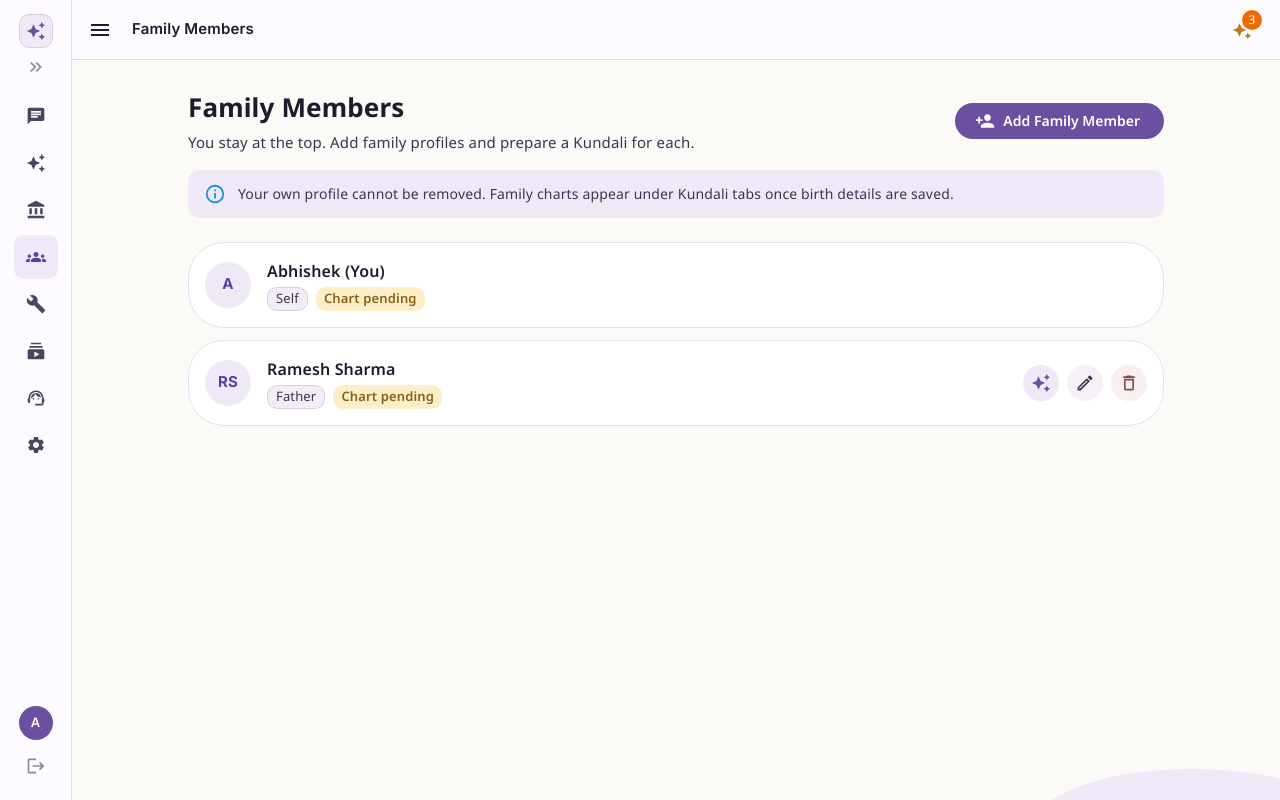
family wizard keeps date/time pickers, place field, and Create chart enable
The image size is (1280, 800).
Click the button "Add Family Member": (1060, 121) [955, 102, 1164, 139]
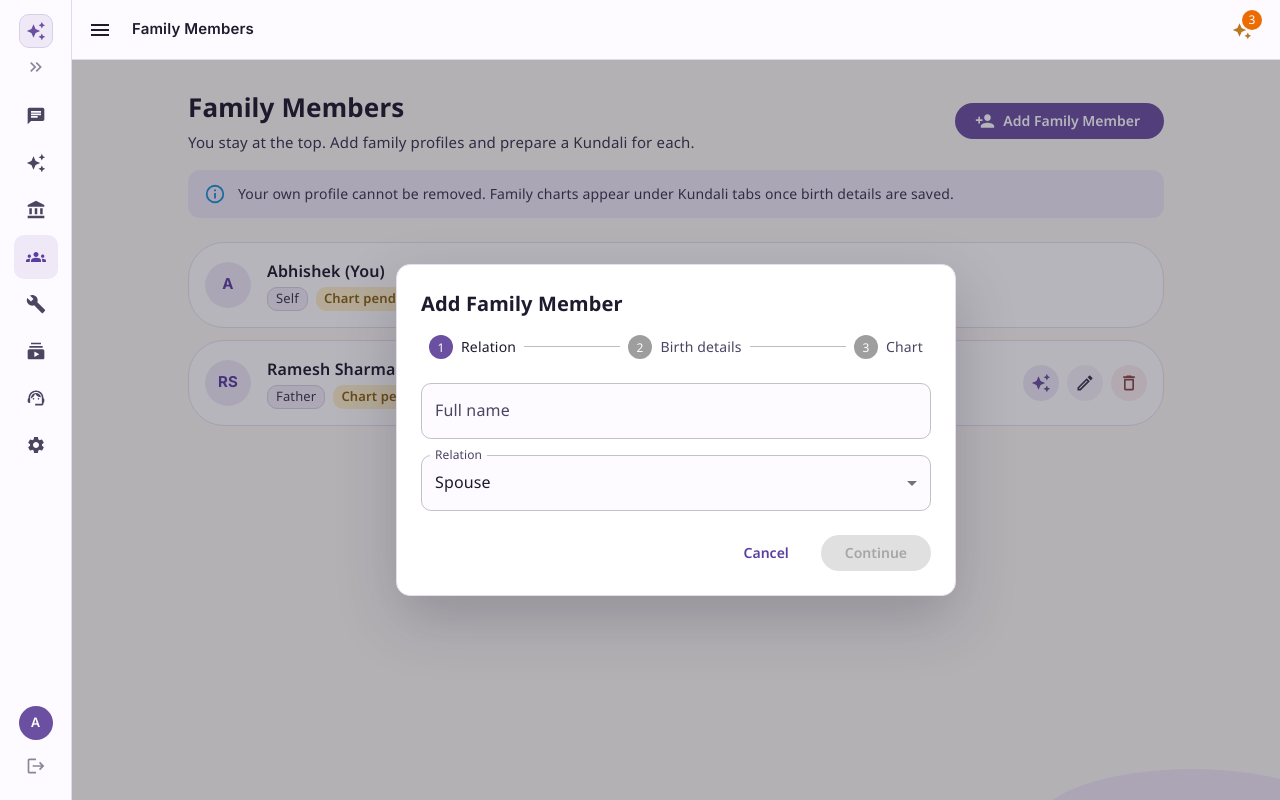
In the field labelled "Full name": (676, 411) [421, 383, 931, 439], type "Priya Sharma"
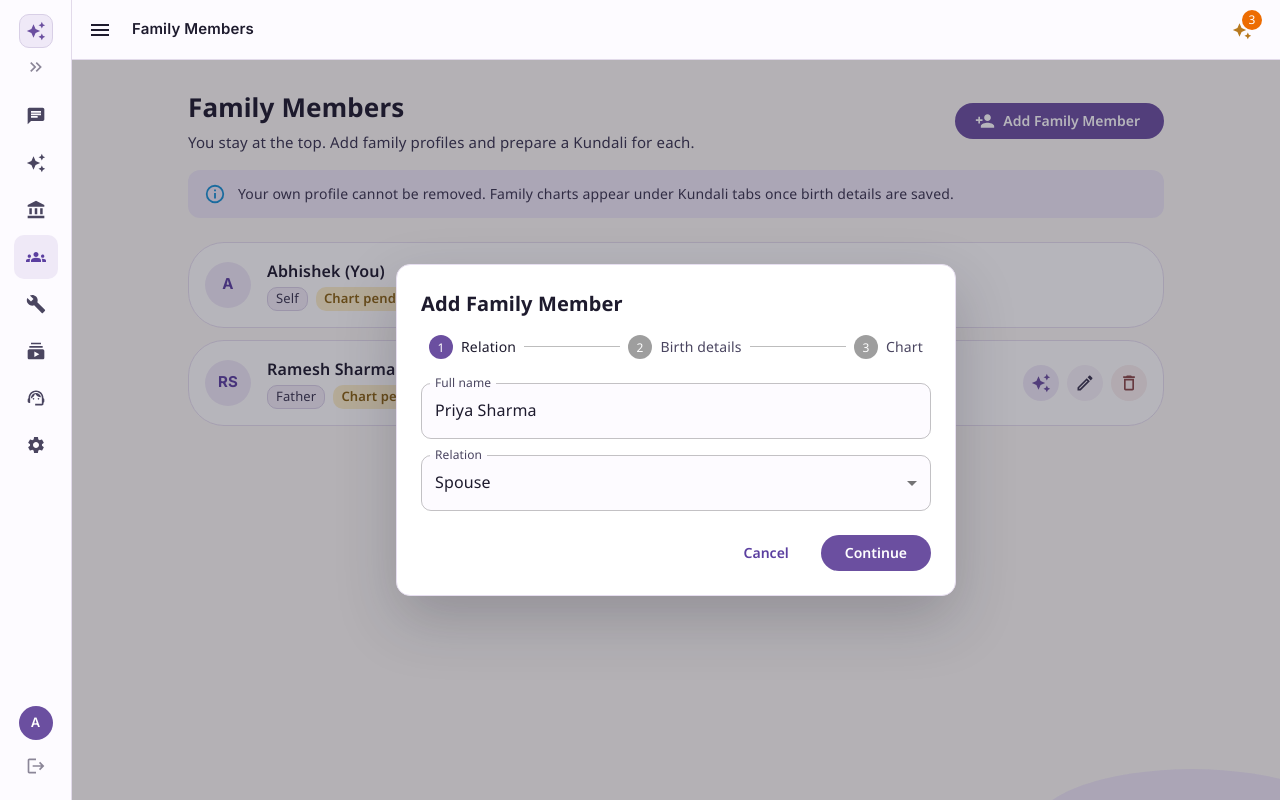
Click the button "Continue": (876, 553) [821, 535, 931, 571]
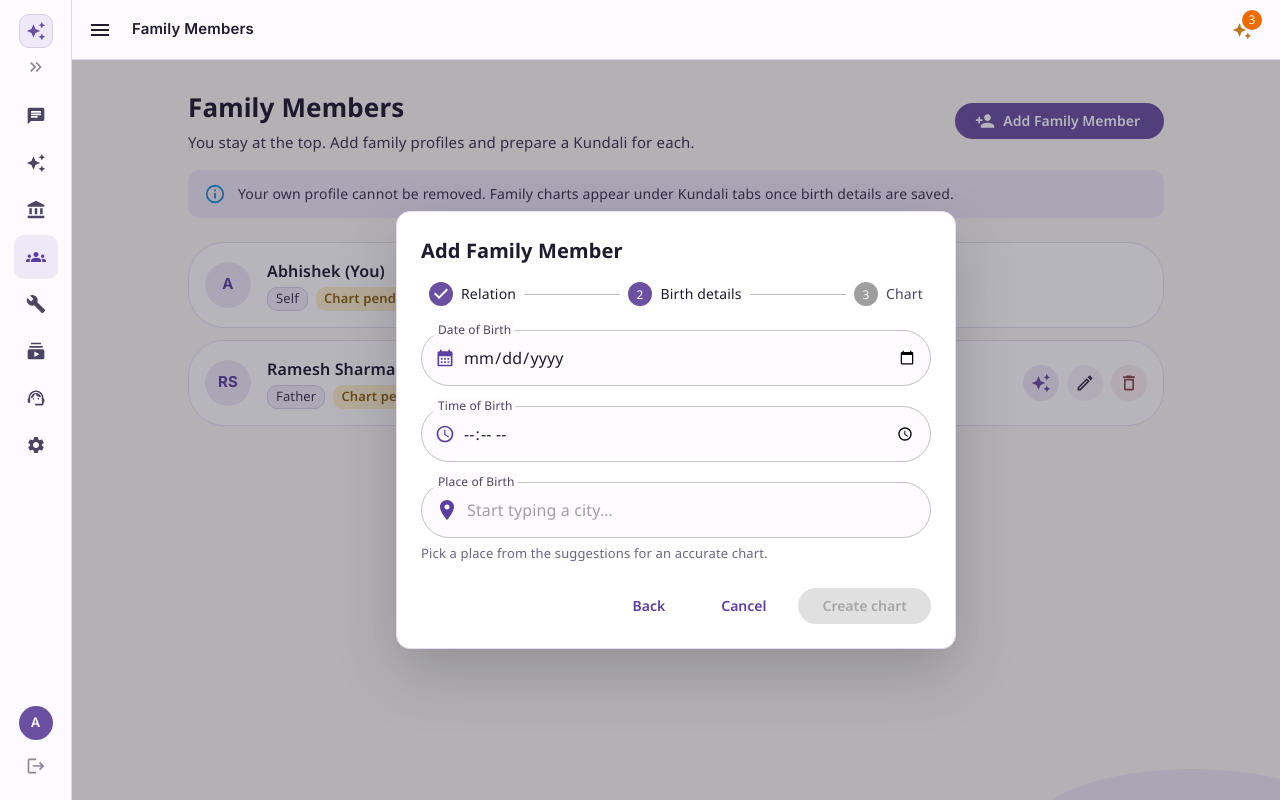
Expected: the icon with test id "CalendarMonthIcon" is shown, [435, 348, 455, 368]
Expected: the icon with test id "ScheduleIcon" is shown, [435, 424, 455, 444]
Expected: the icon with test id "PlaceIcon" is shown, [435, 498, 459, 522]
In the date field labelled "Date of Birth": (697, 358) [463, 330, 931, 386], type "2026-11-25"
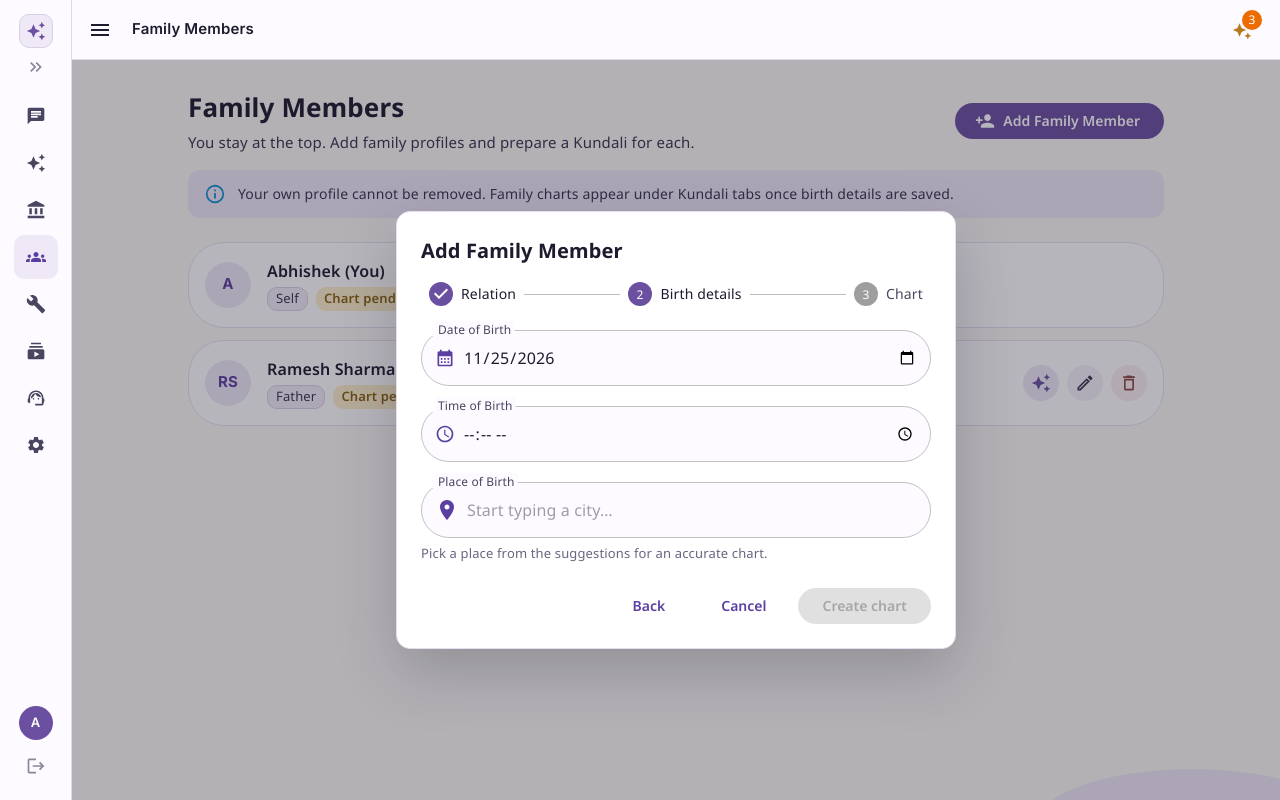
In the time field labelled "Time of Birth": (697, 434) [463, 406, 931, 462], type "12:30"
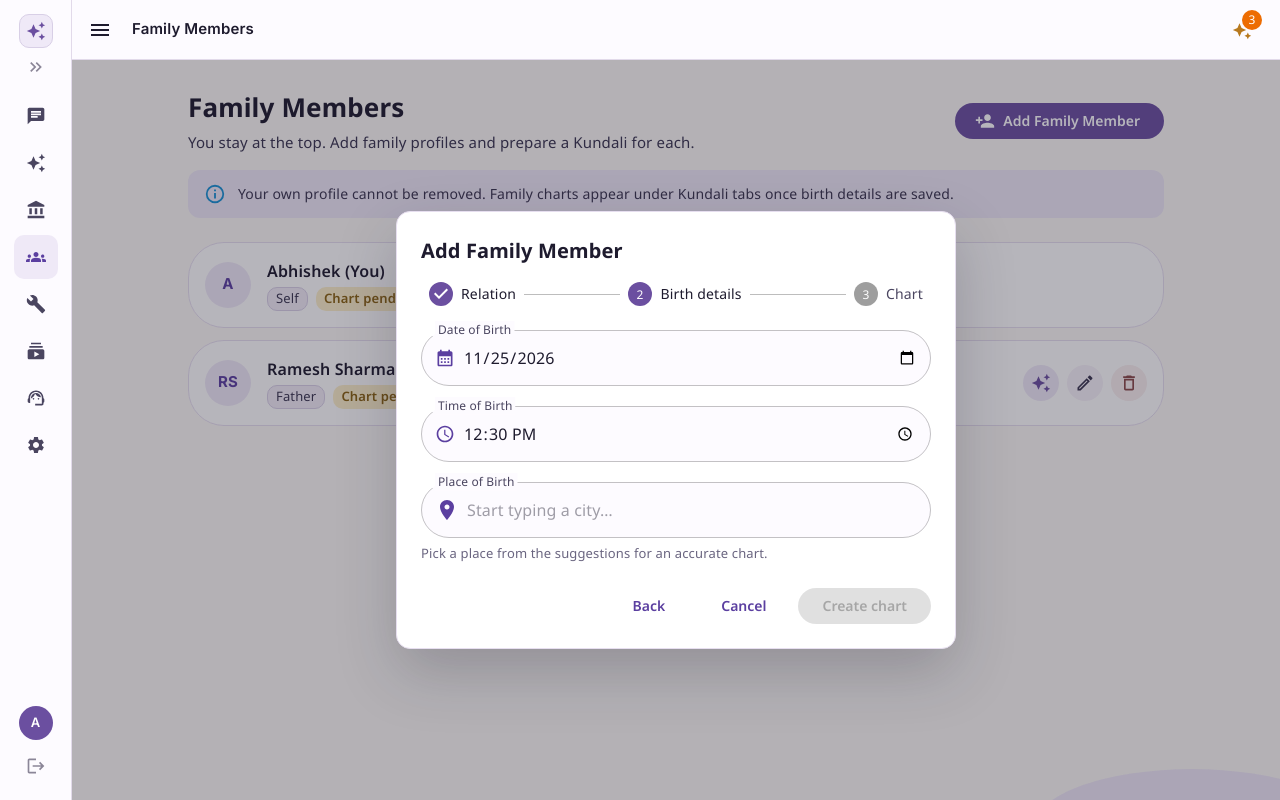
In the field labelled "Place of Birth": (699, 510) [467, 482, 931, 538], type "Delhi, India"
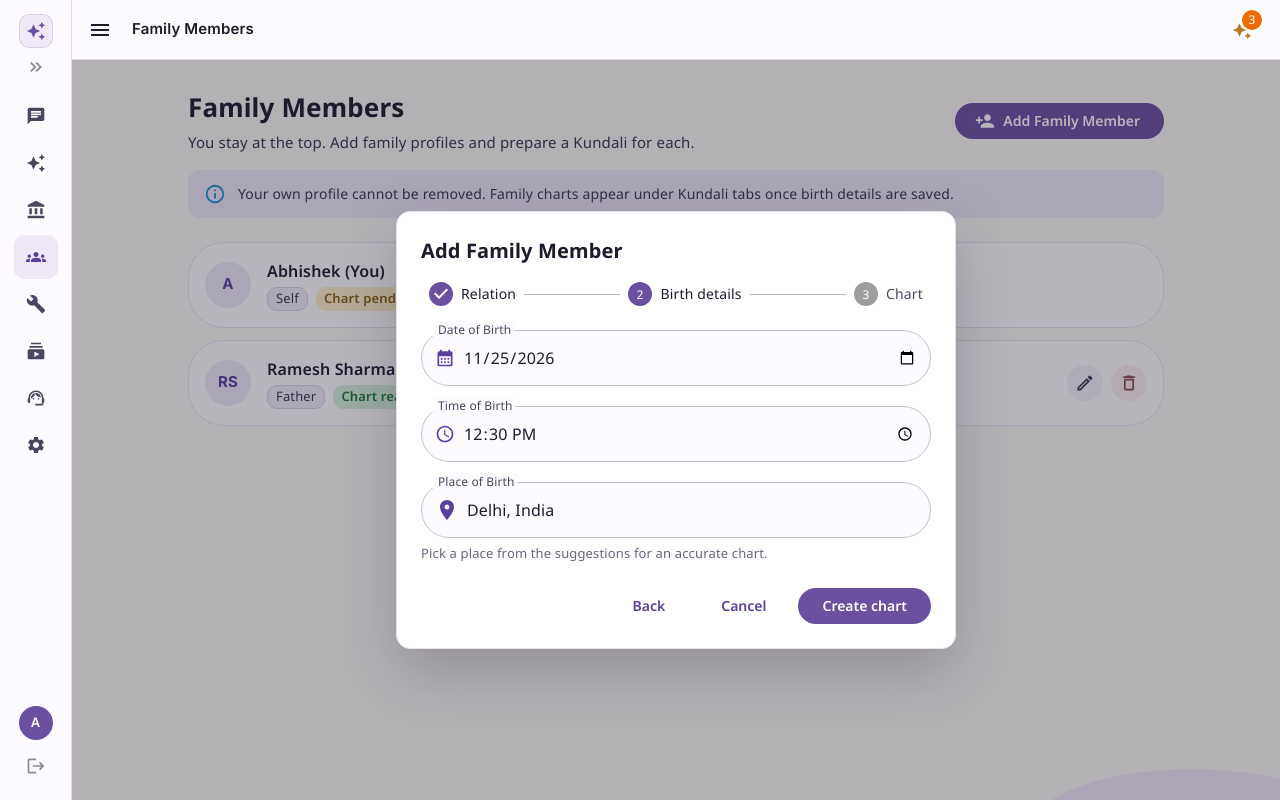
Expected: the button "Create chart" is enabled, [798, 588, 931, 624]
